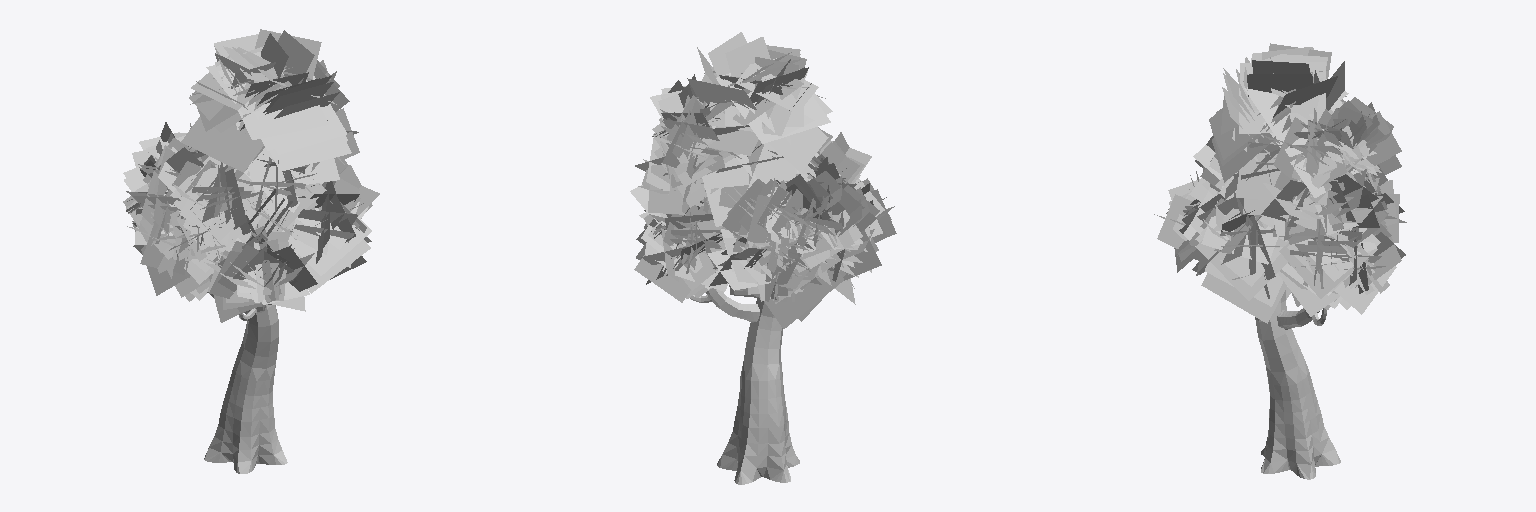
Rendered from CommonTree_2.obj.
3 renders of one model, left to right at view 1: azimuth 30°, elevation 25°; view 2: azimuth 150°, elevation 25°; view 3: azimuth 270°, elevation 25°, orthographic.
Visible parts, largest first — view 1: CommonTree_2; view 2: CommonTree_2; view 3: CommonTree_2.
Part boxes in pixels (bbox=[...]): CommonTree_2: bbox=[123, 29, 379, 473]; CommonTree_2: bbox=[630, 32, 896, 484]; CommonTree_2: bbox=[1154, 43, 1406, 479].
Bounding box in the file's own units: 4.46 × 7.64 × 4.28.